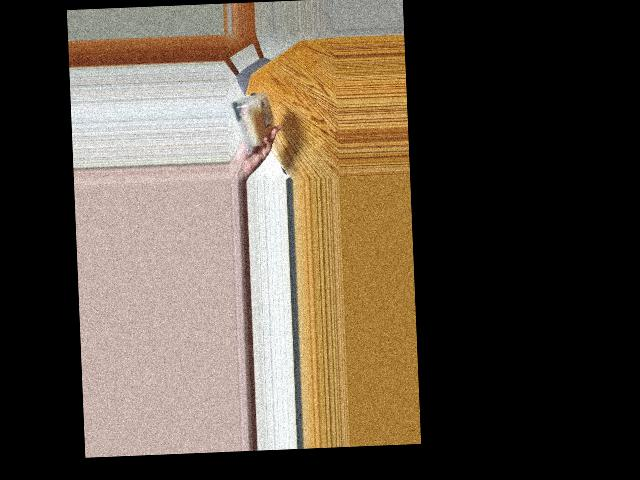cheese: (232, 89, 277, 149)
